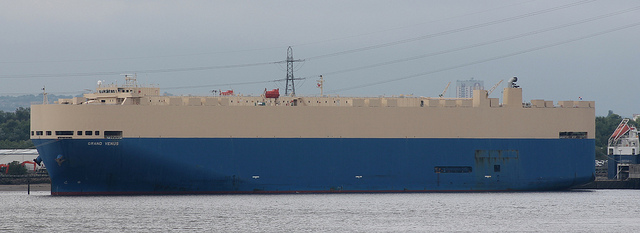PCC: (26, 71, 598, 199)
